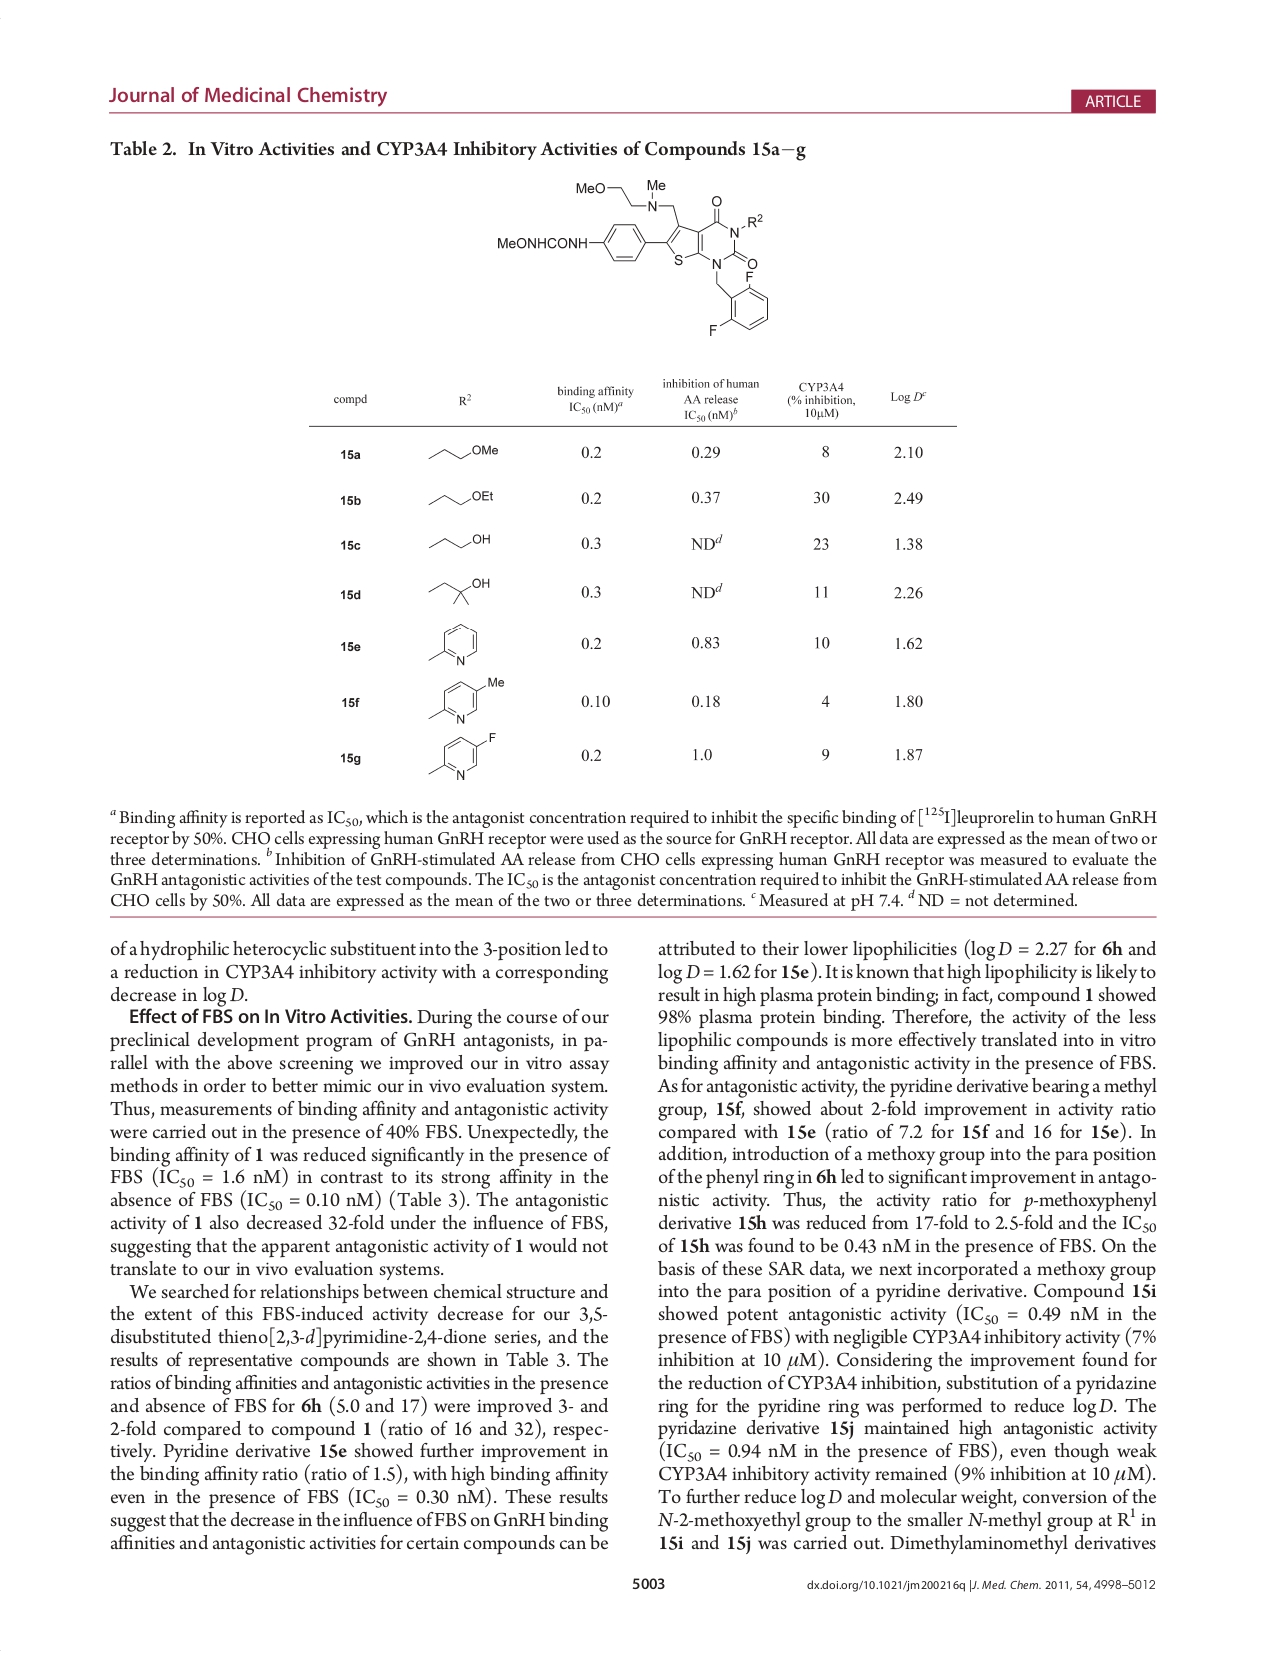exist_molecular: (493, 173, 773, 338), (426, 676, 504, 726), (428, 731, 497, 785), (423, 616, 481, 670), (422, 481, 493, 515), (420, 440, 503, 465), (426, 527, 493, 557), (426, 575, 491, 604)
